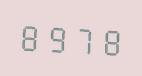eight: (18, 17, 43, 54), (96, 21, 121, 58)
nine: (44, 18, 69, 55)
seven: (70, 20, 95, 57)
